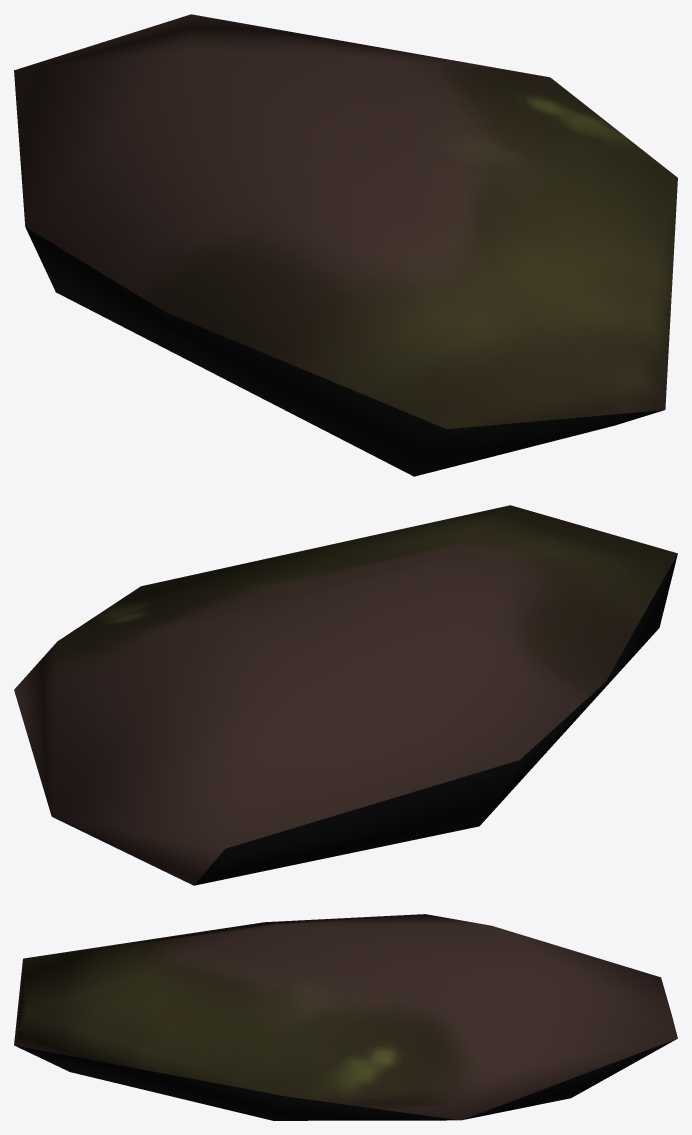
File: SM_RockLagoon_07.fbx
3 views of the same model, one above another, from view 1: azimuth 30°, elevation 25°; view 2: azimuth 150°, elevation 25°; view 3: azimuth 270°, elevation 25° (orthographic). The views are drawn at different scales.
Parts seen in each view (by area): view 1: Esfera.005; view 2: Esfera.005; view 3: Esfera.005.
Part boxes in pixels (x1,y1,x2,y2): Esfera.005: [14, 14, 677, 476]; Esfera.005: [14, 505, 677, 885]; Esfera.005: [14, 914, 677, 1120].
Bounding box in the file's own units: 2.06 × 0.5958 × 3.17.
1 material, 1 textured.
